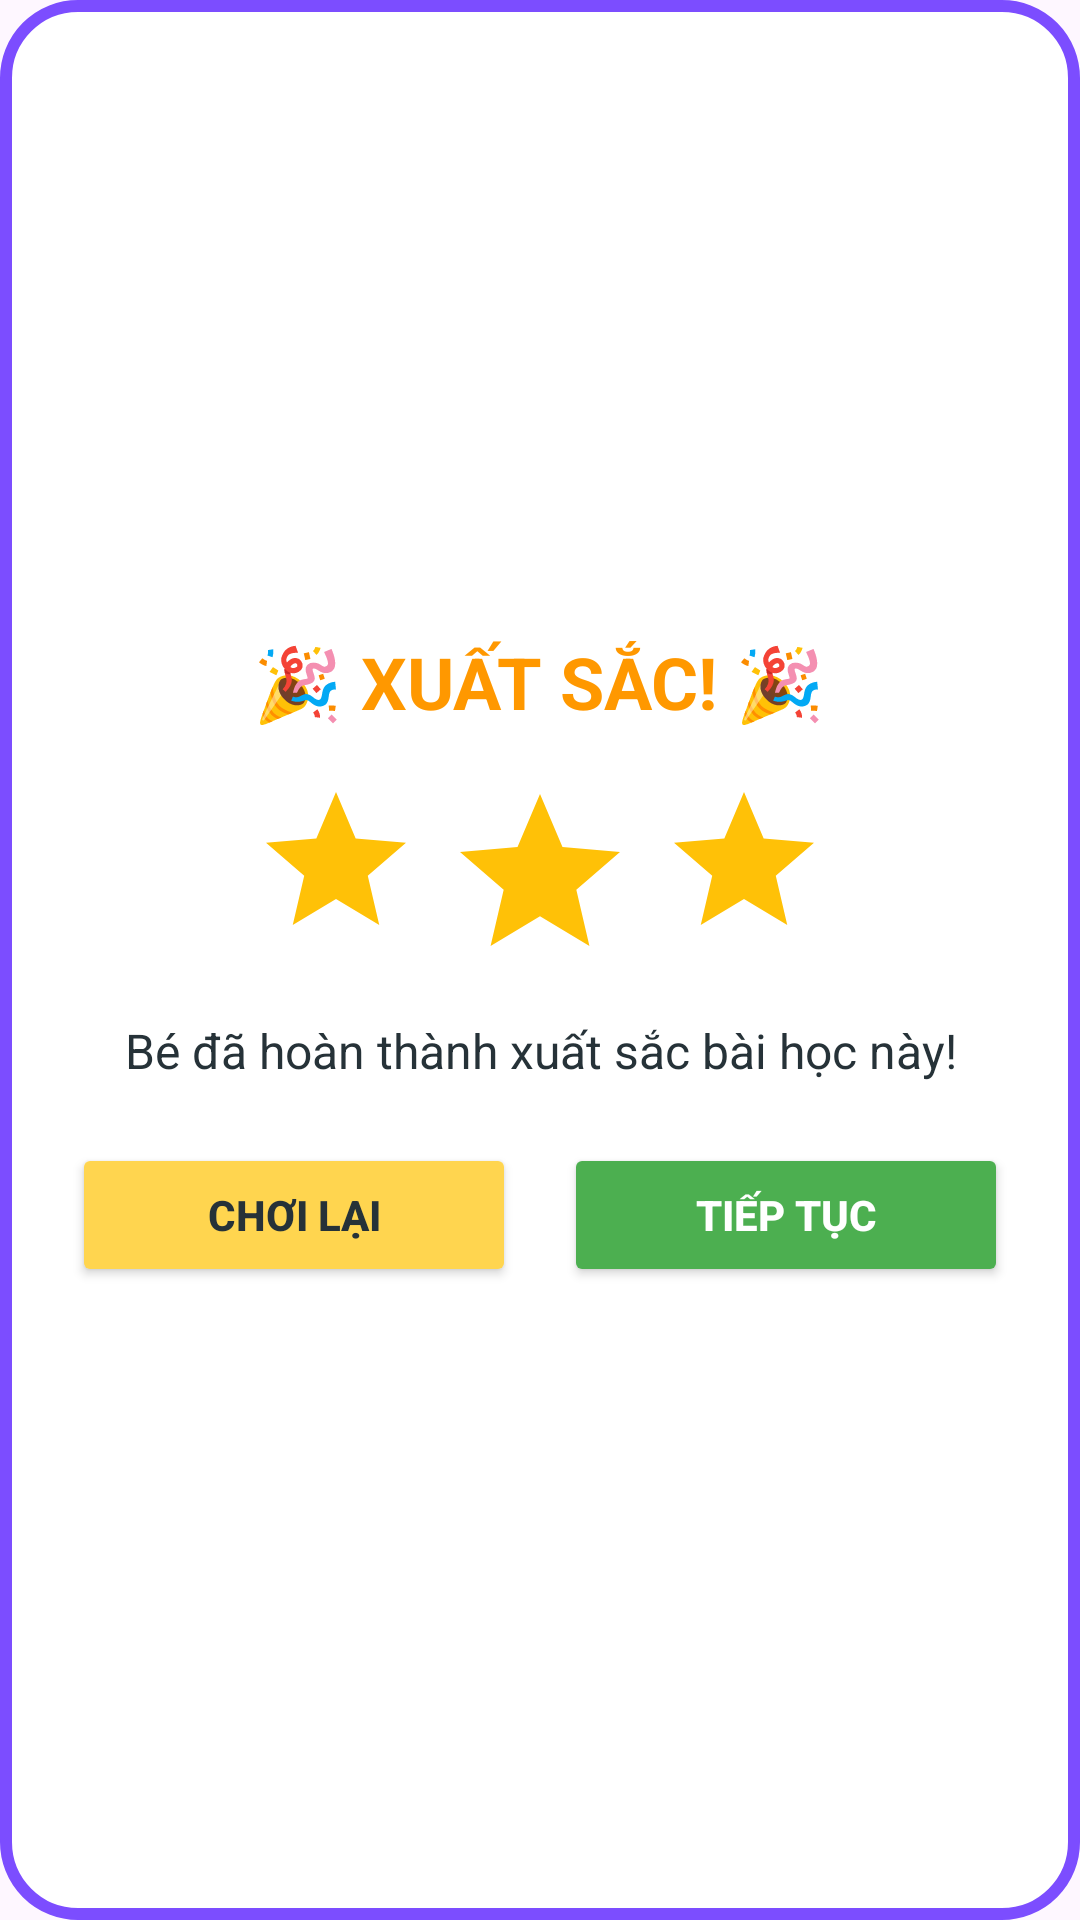

Icon bounding boxes for this 1080px×1920px phone screenshot, format (x1, y1, x2, y2):
star: (266, 792, 406, 925), (674, 792, 814, 925), (460, 794, 620, 946)
